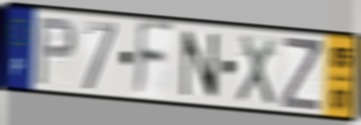7: (82, 18, 118, 92)
F: (131, 18, 176, 101)
N: (180, 27, 221, 102)
P: (34, 16, 78, 88)
X: (234, 32, 277, 109)
Z: (280, 34, 323, 113)
